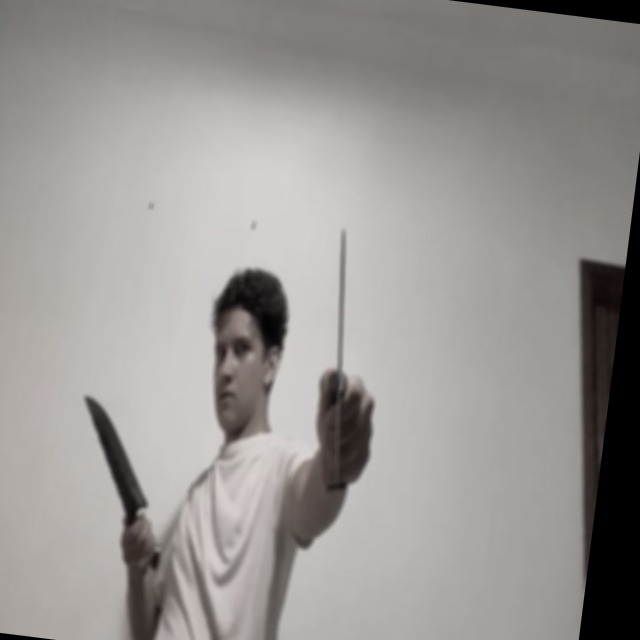Sharp-Object: (309, 226, 372, 485), (71, 392, 163, 513)
